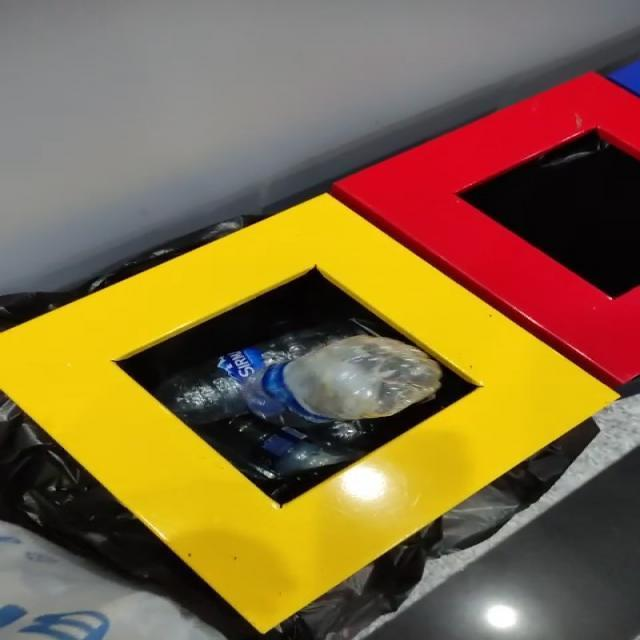Plastic: (156, 322, 443, 473)
